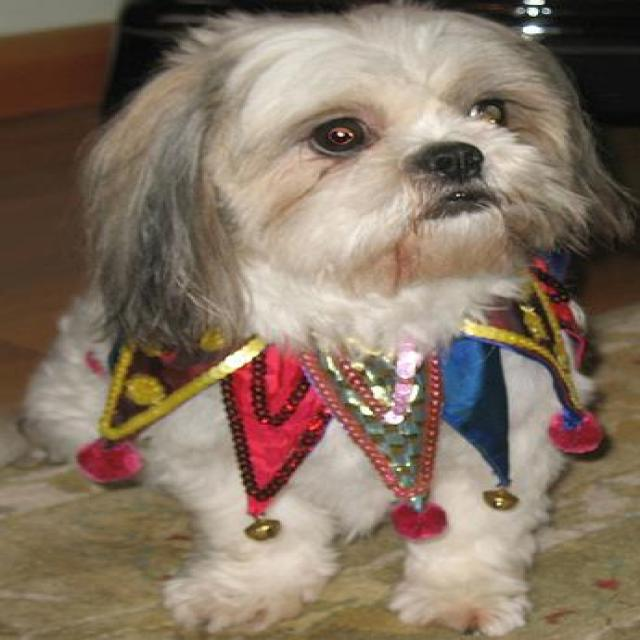shih_tzu: (4, 8, 636, 627)
